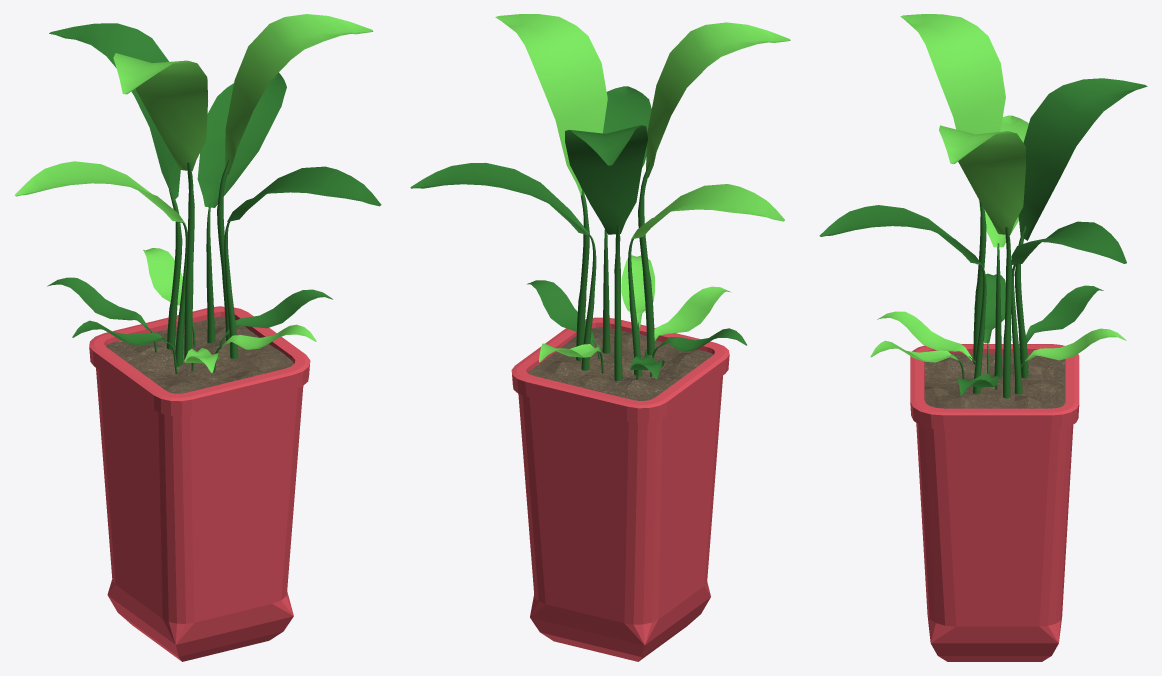
The model's file is Planta.glb.
3 views of the same model, side by side, from view 1: azimuth 30°, elevation 25°; view 2: azimuth 150°, elevation 25°; view 3: azimuth 270°, elevation 25° (orthographic). The views are drawn at different scales.
Visible parts, largest first — view 1: Base, Hoja5, Tierra, Hoja6, Hoja3, Hoja4, Hoja2, Hoja1, Tallo5, Hoja12, Hoja8, Hoja7 (+7 smaller); view 2: Base, Hoja6, Hoja4, Tierra, Hoja5, Hoja3, Hoja1, Hoja2, Hoja10, Hoja12, Tallo5, Hoja11 (+7 smaller); view 3: Base, Hoja4, Hoja5, Tierra, Hoja6, Hoja2, Hoja3, Hoja8, Hoja10, Tallo6, Hoja7, Tallo5 (+7 smaller).
Boxes of the visible parts, x1,y1,x2,y2 form: Base: (89,306,310,661); Hoja5: (113,53,207,171); Tierra: (106,316,293,393); Hoja6: (225,14,373,174); Hoja3: (197,72,286,207); Hoja4: (49,23,180,200); Hoja2: (227,166,381,221); Hoja1: (14,161,185,223); Tallo5: (184,162,194,359); Hoja12: (226,289,332,335); Hoja8: (47,277,148,329); Hoja7: (143,248,182,305); Base: (511,317,729,661); Hoja6: (495,14,607,195); Hoja4: (565,125,647,234); Tierra: (528,327,712,400); Hoja5: (646,22,790,177); Hoja3: (410,162,590,236); Hoja1: (631,184,784,239); Hoja2: (603,86,651,167); Hoja10: (654,286,730,341); Hoja12: (527,280,595,344); Tallo5: (638,162,654,355); Hoja11: (621,255,654,327); Base: (910,344,1079,661); Hoja4: (1018,78,1147,240); Hoja5: (900,14,1005,134); Tierra: (924,353,1064,408); Hoja6: (939,125,1025,235); Hoja2: (819,205,982,265); Hoja3: (1011,221,1126,264); Hoja8: (1026,285,1103,342); Hoja10: (877,311,972,360); Tallo6: (1003,226,1012,398); Hoja7: (1025,328,1126,362); Tallo5: (973,201,986,364).
Size of the model in its own units: 5.26 by 9.51 by 4.86.
Materials: 4 (1 with a texture image).
